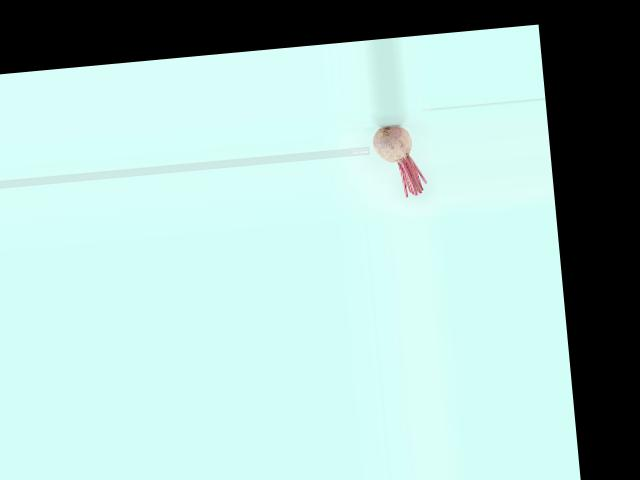beet: (371, 122, 427, 199)
